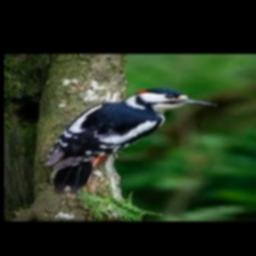Woodpecker: (43, 88, 217, 194)
